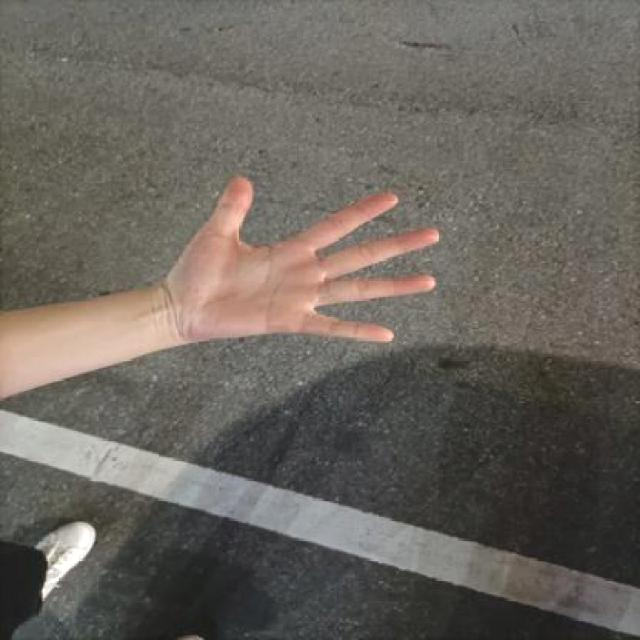no_glove: (143, 167, 449, 359)
